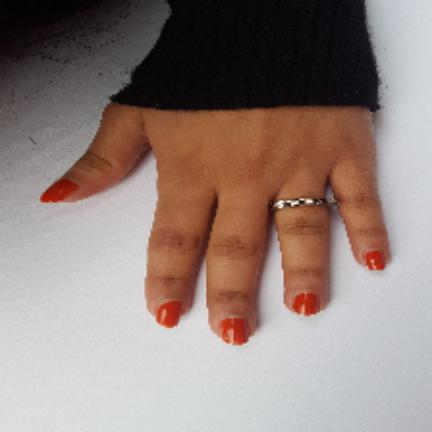Nail: (39, 177, 79, 204), (218, 316, 251, 346), (155, 299, 184, 328), (292, 291, 319, 316), (364, 248, 386, 272)
